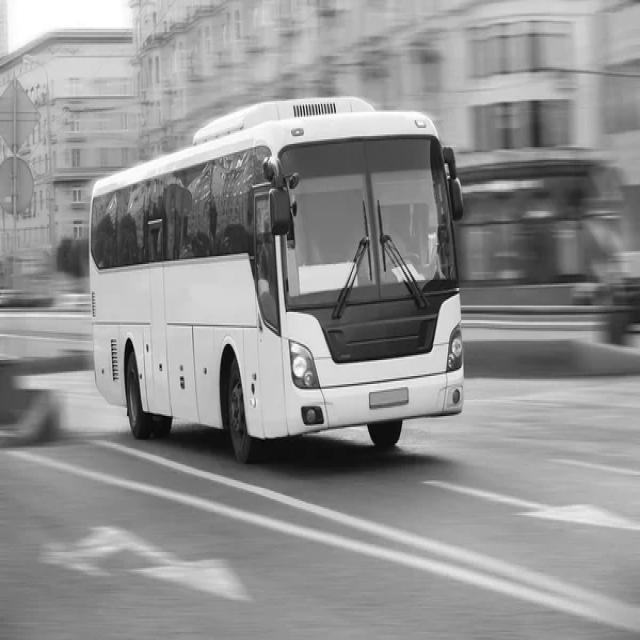Bus: (90, 96, 464, 462)
